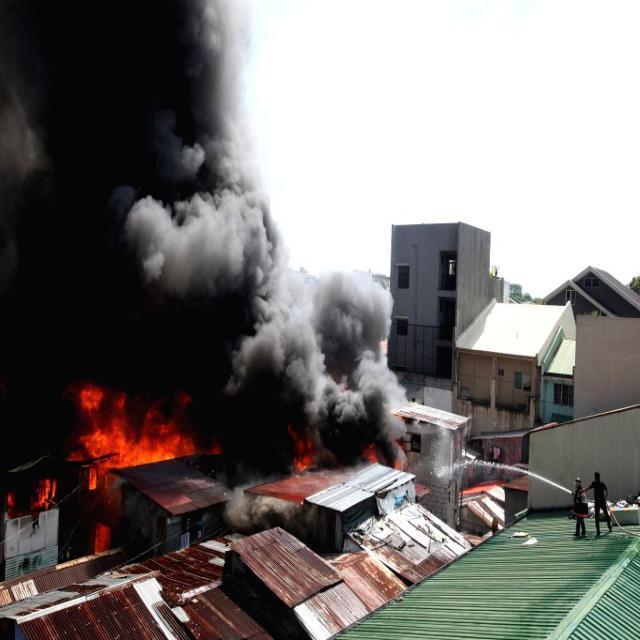Fire: (75, 383, 365, 480)
Smoke: (2, 4, 400, 392)
